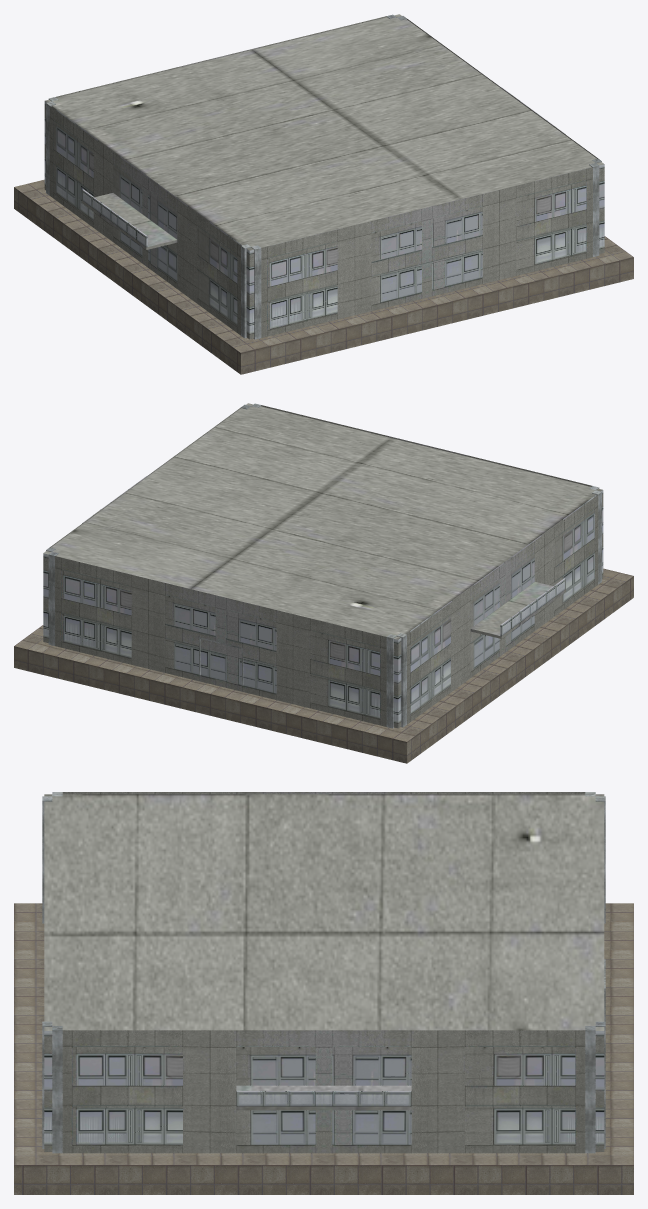
File: BagSS10base_100.fbx
3 renders of one model, top to bottom at view 1: azimuth 30°, elevation 25°; view 2: azimuth 150°, elevation 25°; view 3: azimuth 270°, elevation 25°, orthographic. The views are drawn at different scales.
Parts seen in each view (by area): view 1: baseBox100, baseMain100, baseFound100, baseCrete100; view 2: baseBox100, baseMain100, baseFound100, baseCrete100; view 3: baseBox100, baseFound100, baseMain100, baseCrete100.
Part boxes in pixels (x1,y1,x2,y2): baseBox100: (44, 14, 604, 339); baseMain100: (49, 16, 597, 337); baseFound100: (14, 179, 633, 374); baseCrete100: (46, 14, 601, 339); baseBox100: (43, 403, 603, 728); baseMain100: (50, 405, 598, 726); baseFound100: (14, 568, 633, 763); baseCrete100: (46, 403, 601, 728); baseBox100: (44, 794, 604, 1151); baseFound100: (14, 903, 633, 1194); baseMain100: (62, 792, 585, 1153); baseCrete100: (42, 792, 605, 1153).
Bounding box in the file's own units: 51.84 × 13.2 × 48.58.
